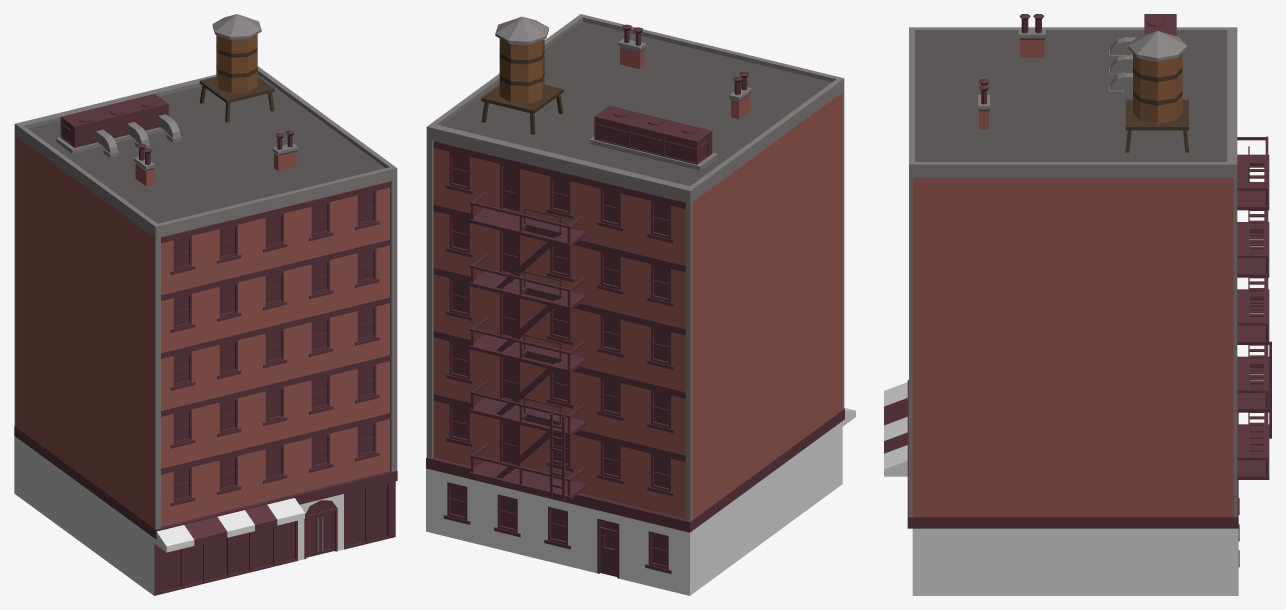
Rendered from building-block-5floor.fbx.
3 views of the same model, side by side, from view 1: azimuth 30°, elevation 25°; view 2: azimuth 150°, elevation 25°; view 3: azimuth 270°, elevation 25° (orthographic). The views are drawn at different scales.
Visible parts, largest first — view 1: building-block-5floor; view 2: building-block-5floor; view 3: building-block-5floor.
Boxes of the visible parts, box(x1,y1,x2,y2) form: building-block-5floor: box(14, 14, 397, 595); building-block-5floor: box(426, 14, 855, 595); building-block-5floor: box(884, 14, 1271, 595).
Size of the model in its own units: 13.1 by 23.81 by 15.65.
